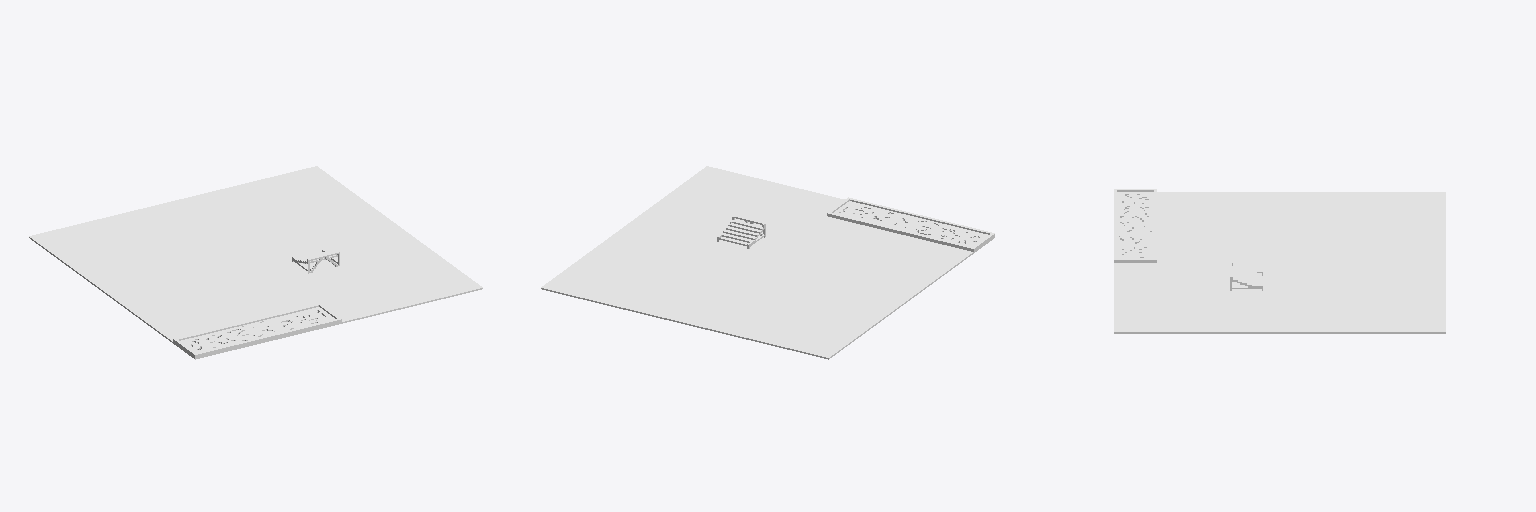
File: piso-1.obj
The picture shows the model from 3 angles: view 1: azimuth 30°, elevation 25°; view 2: azimuth 150°, elevation 25°; view 3: azimuth 270°, elevation 25°; orthographic projection.
Parts seen in each view (by area): view 1: object 1; view 2: object 1; view 3: object 1.
Boxes of the visible parts, <box> form: object 1: <box>29,166,482,359</box>; object 1: <box>541,166,994,359</box>; object 1: <box>1114,189,1445,333</box>.
Bounding box in the file's own units: 20 × 1 × 20.